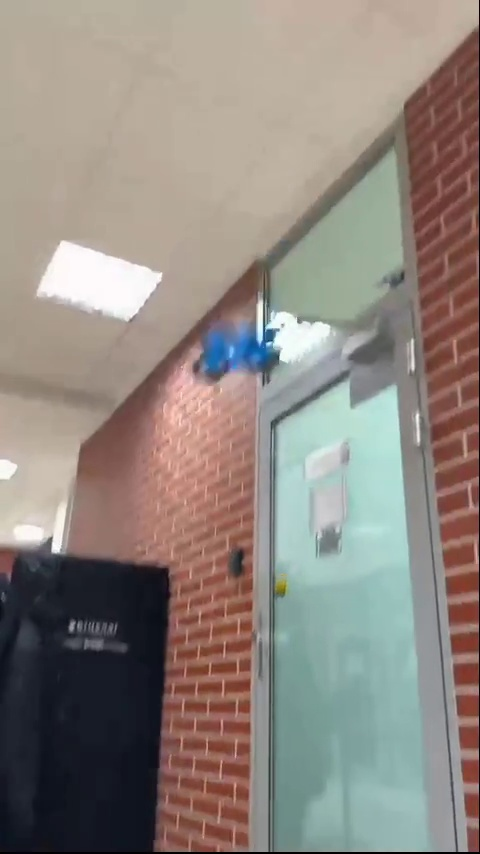drone: (198, 318, 285, 381)
